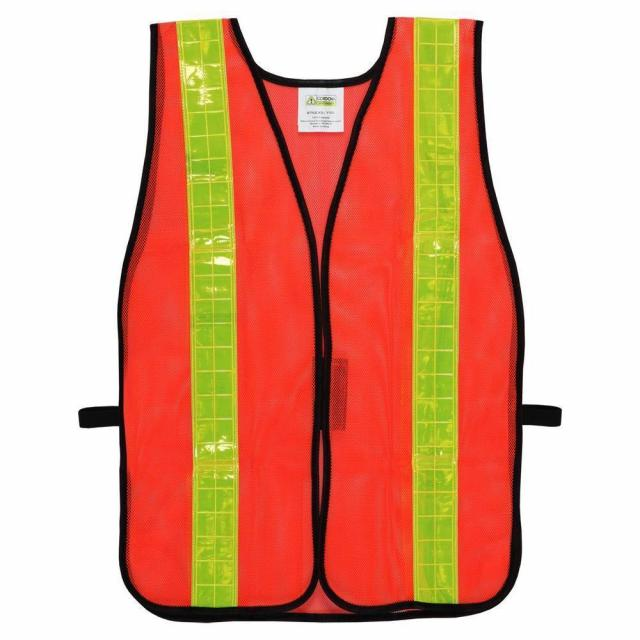vest: (115, 14, 522, 622)
